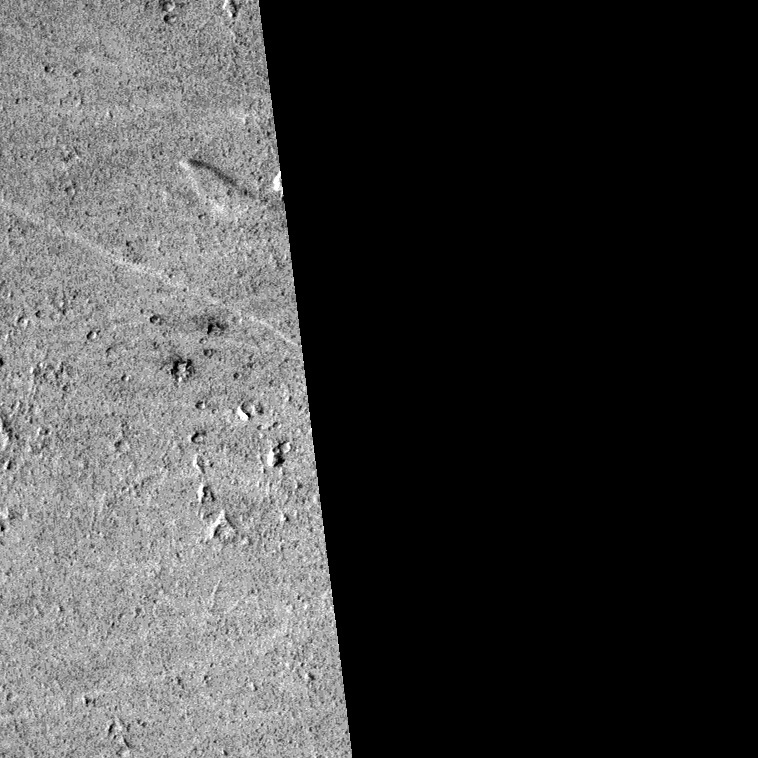dust_devil: (175, 156, 280, 227)
